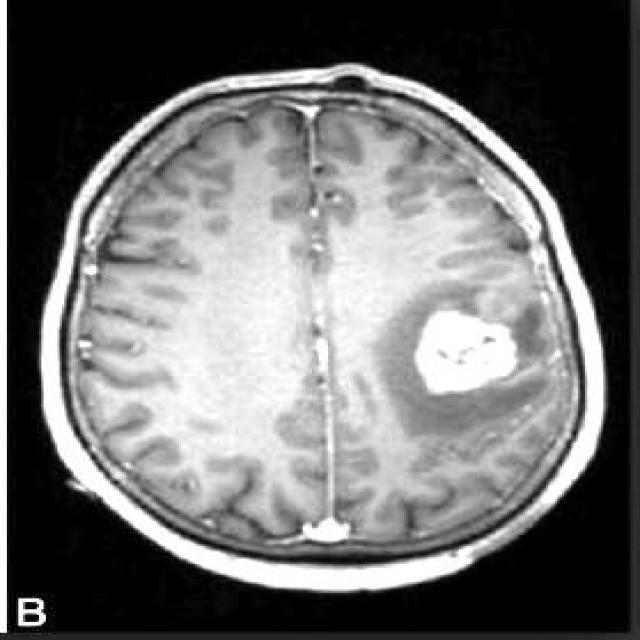Tumor: (403, 300, 530, 412)
